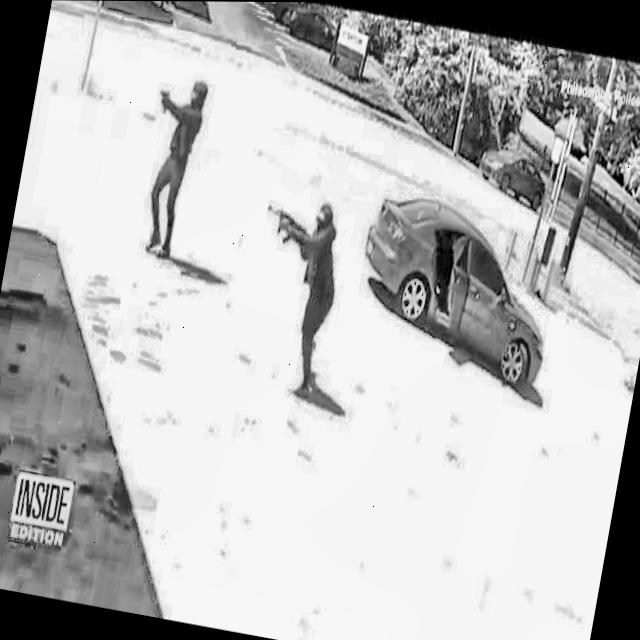robbery: (127, 66, 459, 428)
